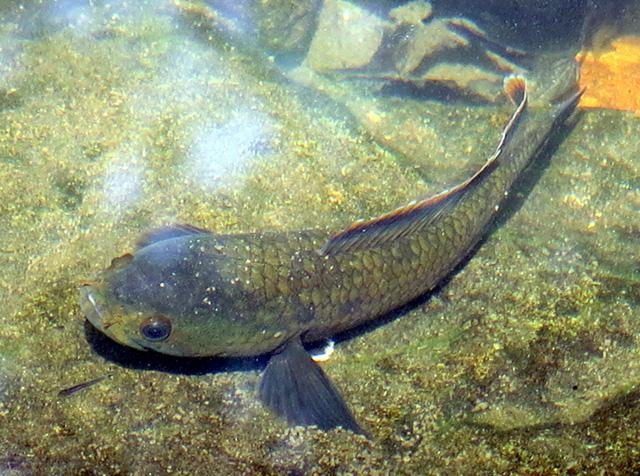Mulut: (56, 276, 168, 382)
Sirip Dada: (253, 316, 369, 439), (122, 216, 222, 249)
Sirip Ekor: (542, 48, 598, 144)
Sirip Punggung: (318, 66, 534, 286)
